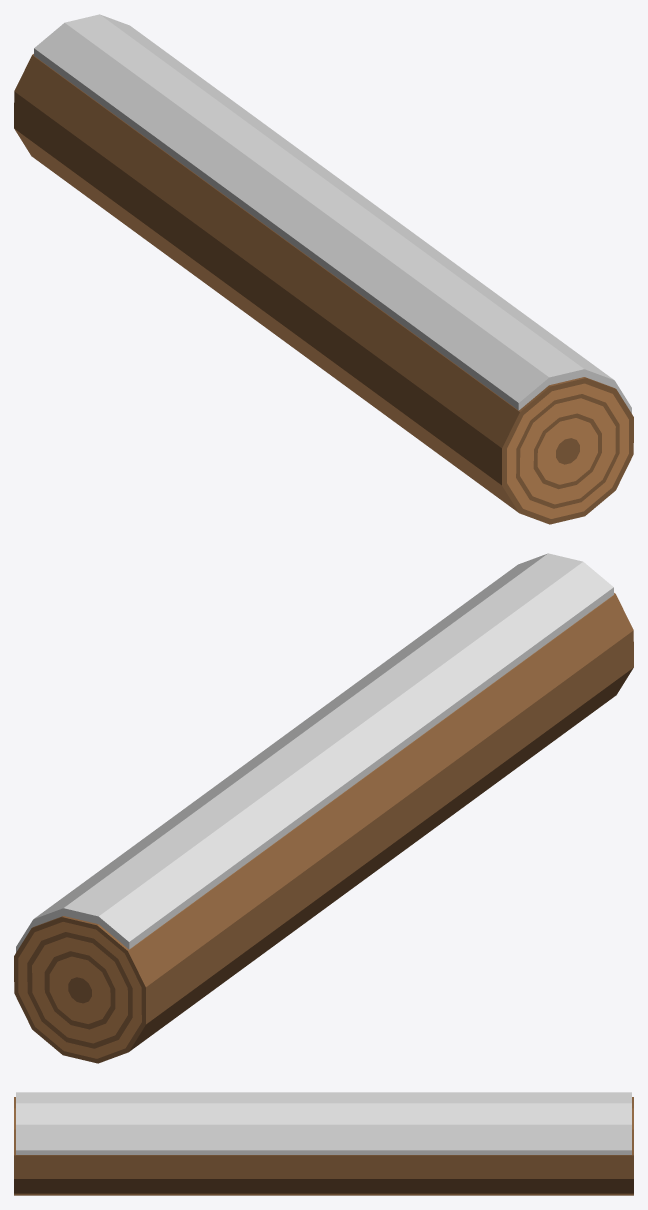
File: Beam_1_snow_mat.fbx
3 renders of one model, top to bottom at view 1: azimuth 30°, elevation 25°; view 2: azimuth 150°, elevation 25°; view 3: azimuth 270°, elevation 25°, orthographic. The views are drawn at different scales.
Parts seen in each view (by area): view 1: Beam_1_snow_mat; view 2: Beam_1_snow_mat; view 3: Beam_1_snow_mat.
Part boxes in pixels (left/top/right/bottom): Beam_1_snow_mat: left=14, top=14, right=633, bottom=524; Beam_1_snow_mat: left=14, top=553, right=633, bottom=1063; Beam_1_snow_mat: left=14, top=1092, right=633, bottom=1195.
Size of the model in its own units: 0.3624 by 0.3827 by 2.32.
